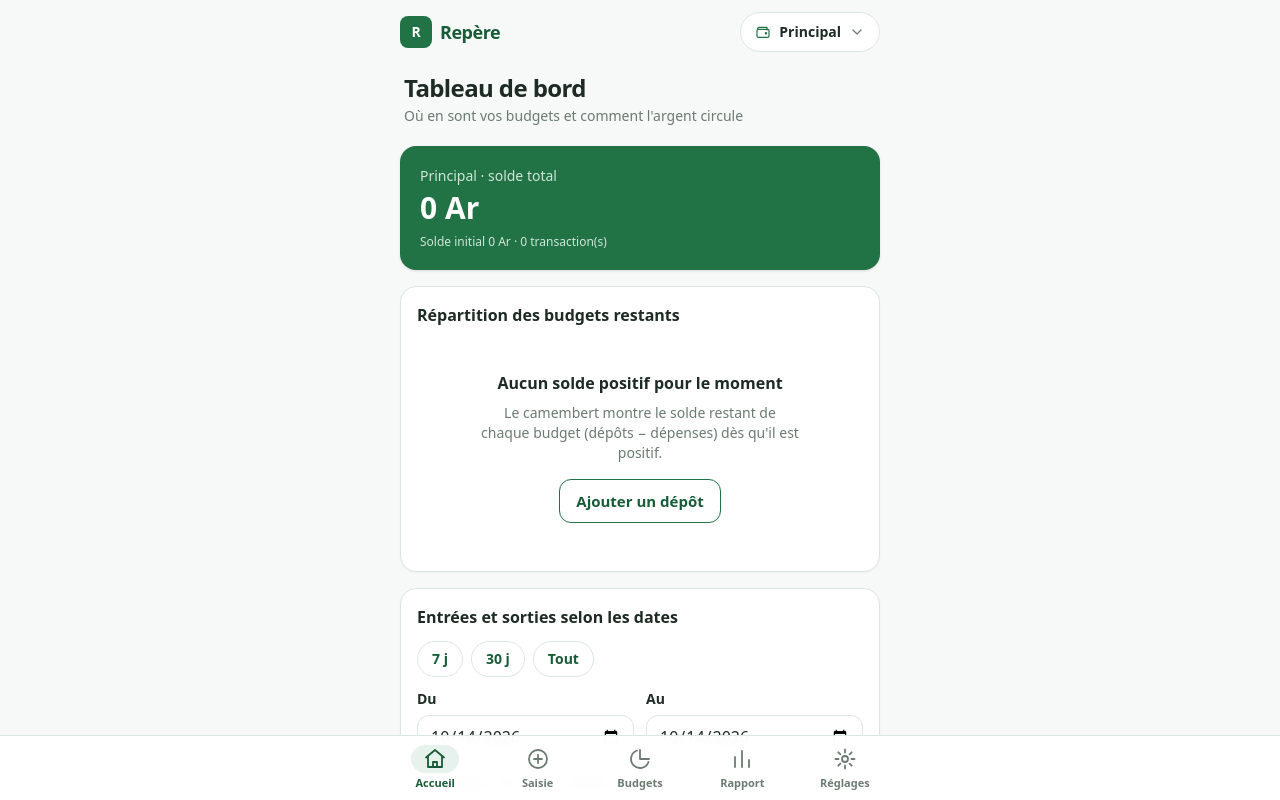
Test: premier lancement : de la catégorie au tableau de bord › montant vide ou nul : message d'erreur, rien n'est enregistré
Click the button "Saisie".
click(538, 768)  # box [486,736,589,799]
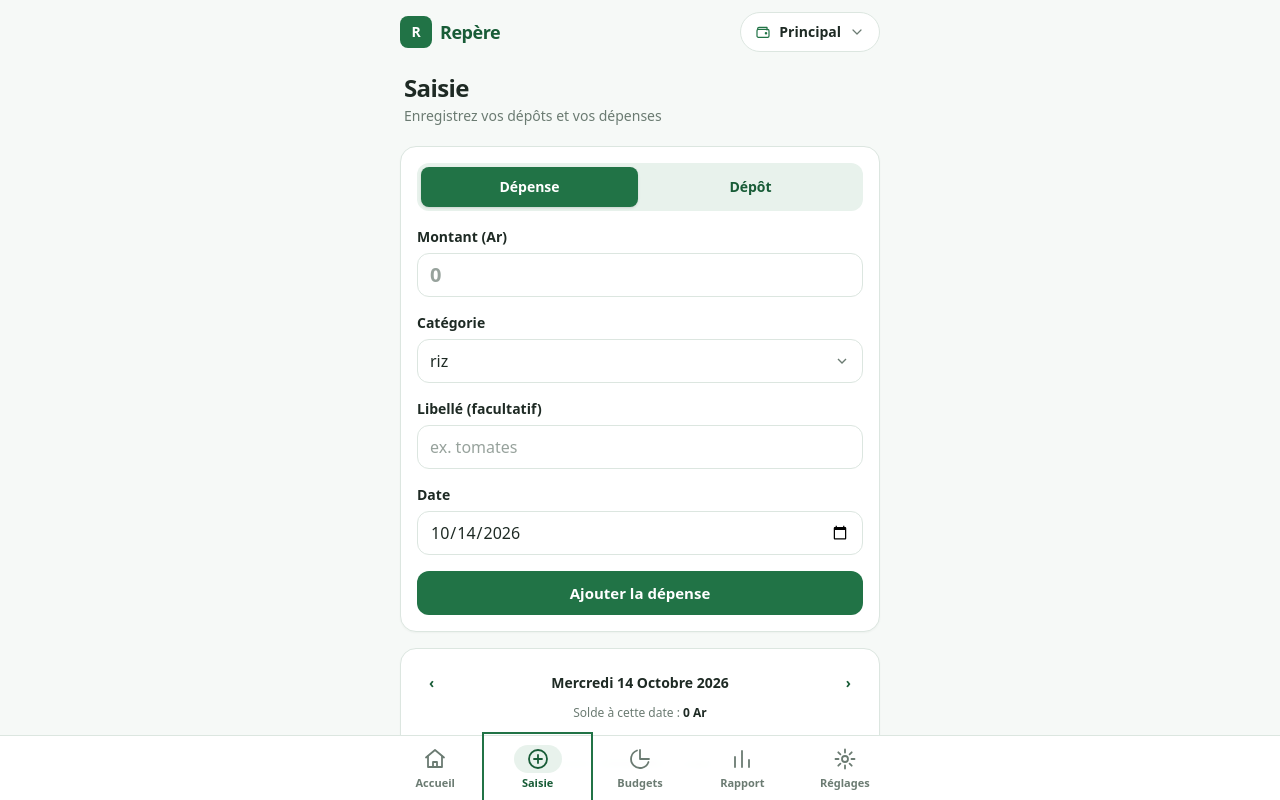
Click the button "Ajouter la dépense".
click(640, 593)  # box [417,571,863,615]
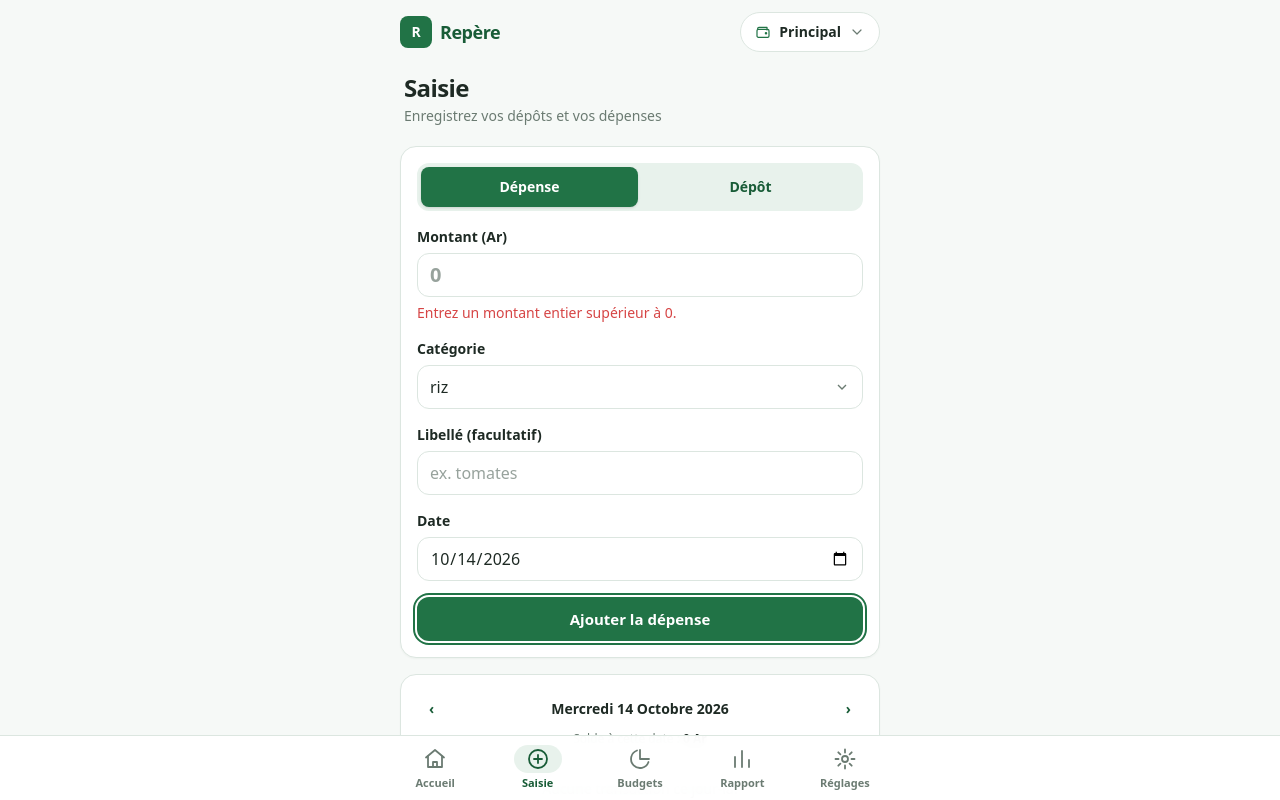
Expected: the message reads "Entrez un montant entier supérieur à 0.", [417,303,676,322]
